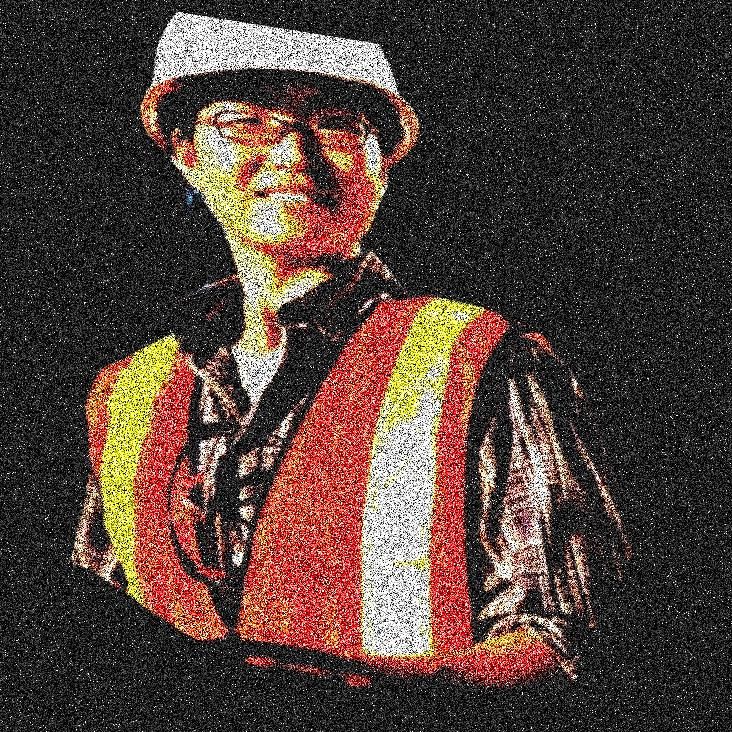Pessoa: (184, 0, 607, 731)
